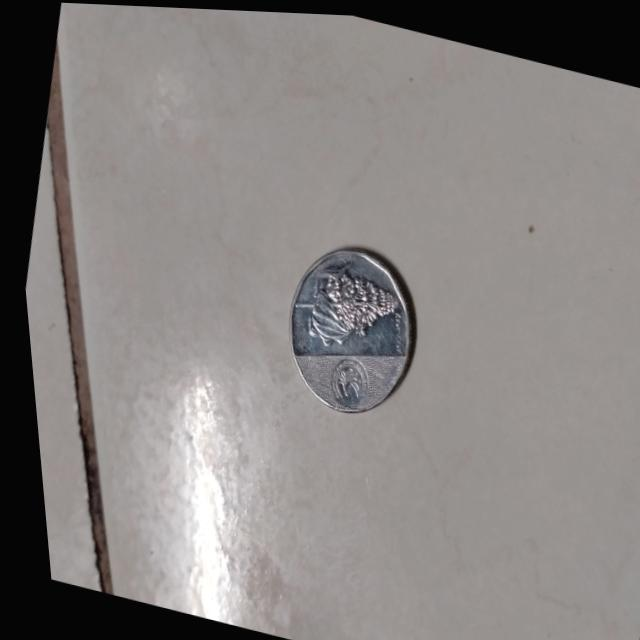10_New_Back: (277, 258, 407, 414)
